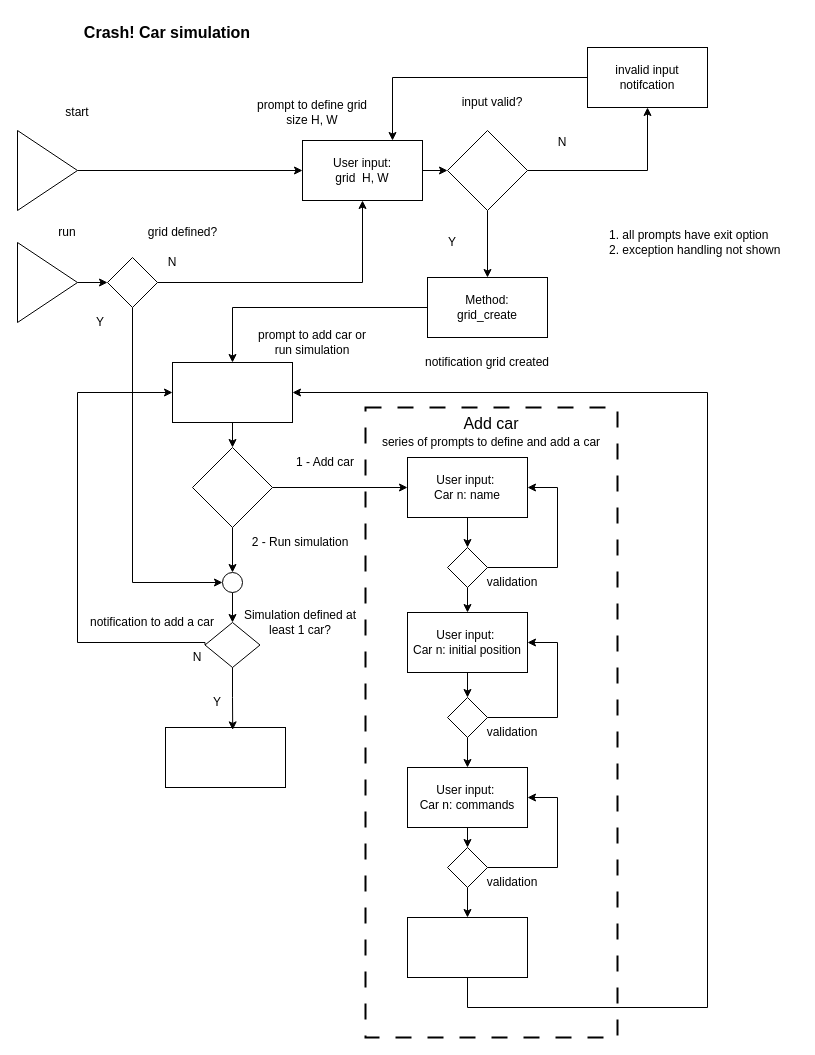
Some shapes in this 815 by 1055 pixel diagram are drawn without their labels. The shapes that lost their labels are listed below. From the top down, each one's box as (x1, y1, x2, y2) in pixels, then its label:
(172, 362, 292, 422): User input: Navigate options
(164, 726, 286, 788): Method: run
(406, 916, 528, 978): Method: car_add
